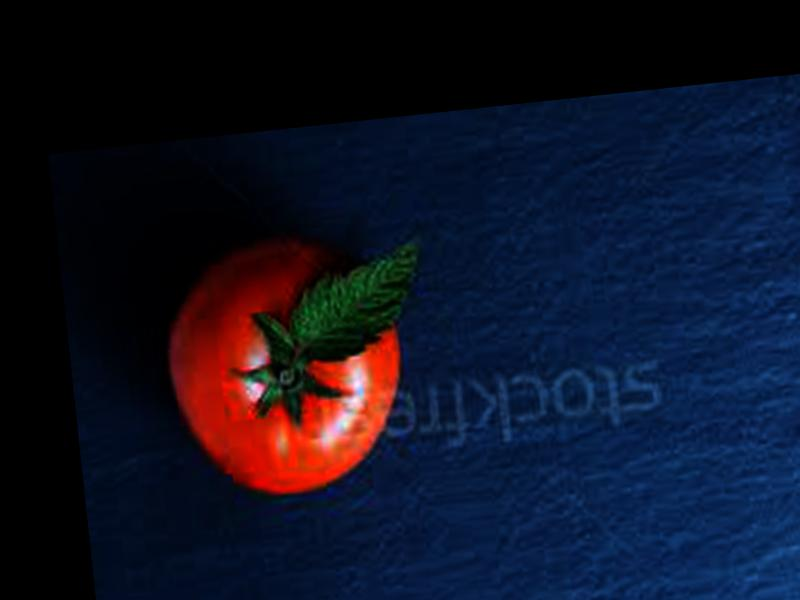Tomato: (158, 229, 416, 505)
